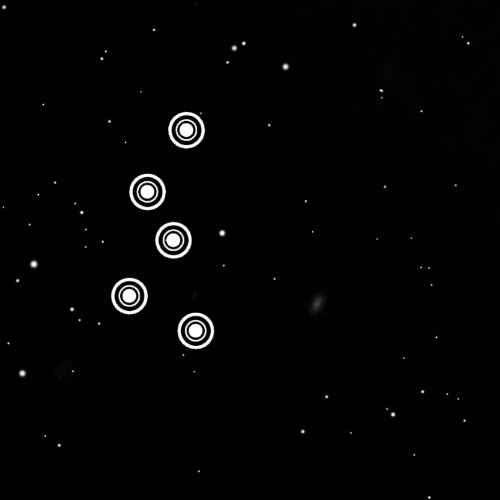cassiopeia: (95, 97, 224, 359)
